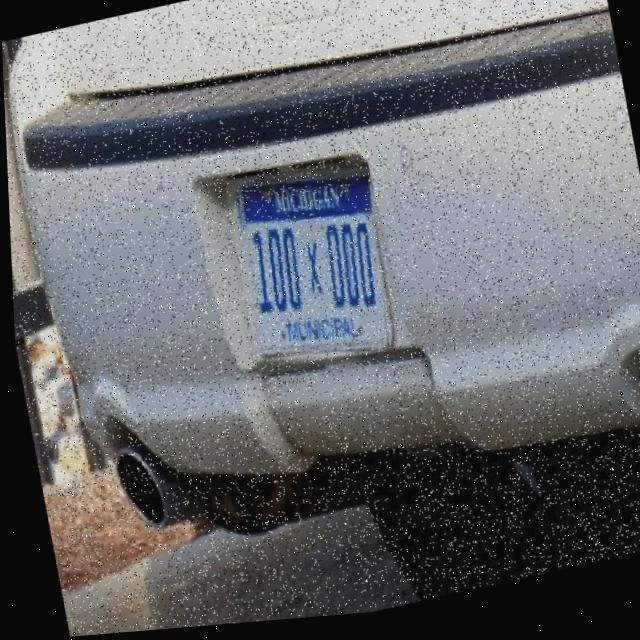LicensePlate: (237, 172, 384, 360)
